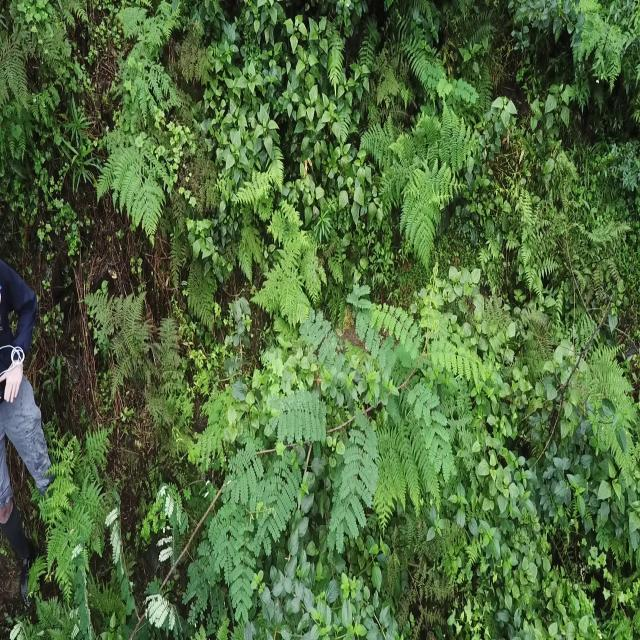Mysore-Thorn-Weed: (264, 306, 492, 546), (69, 434, 262, 640)
